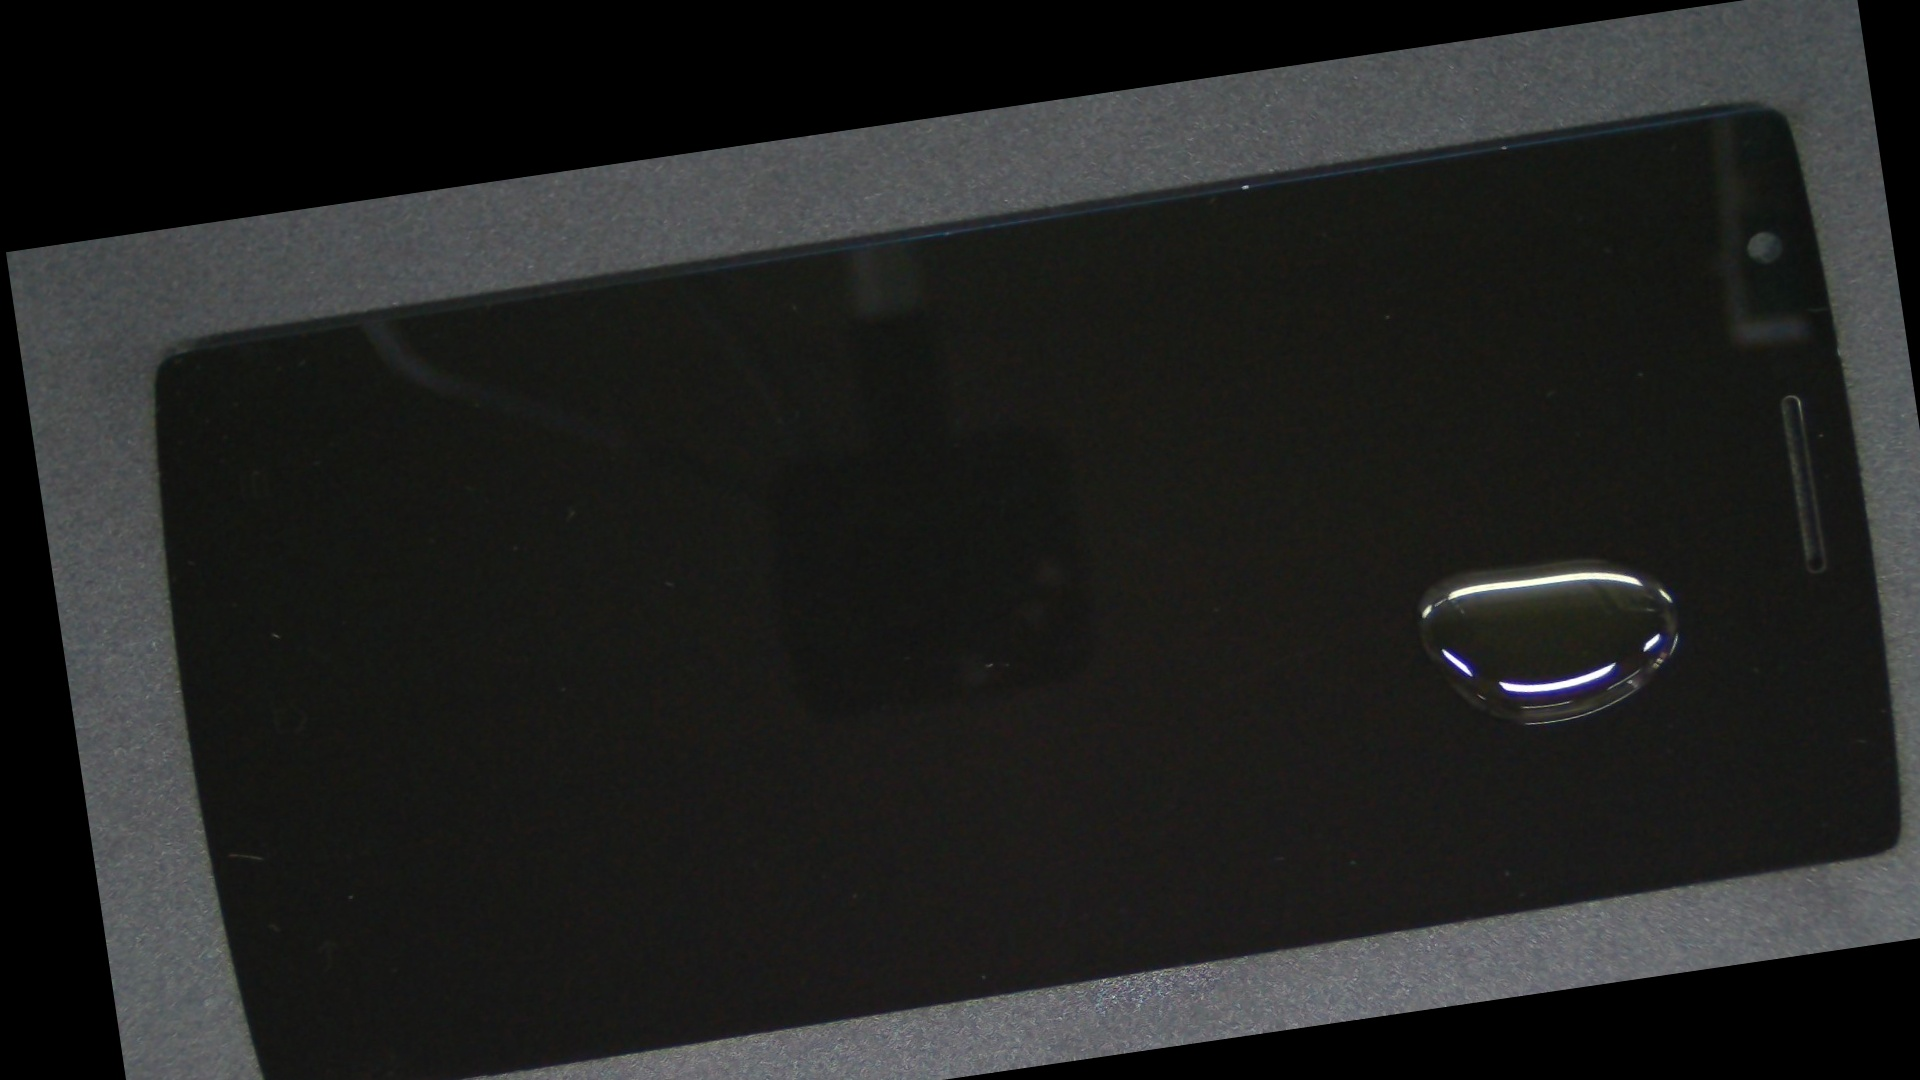oil: (735, 244, 1920, 932)
